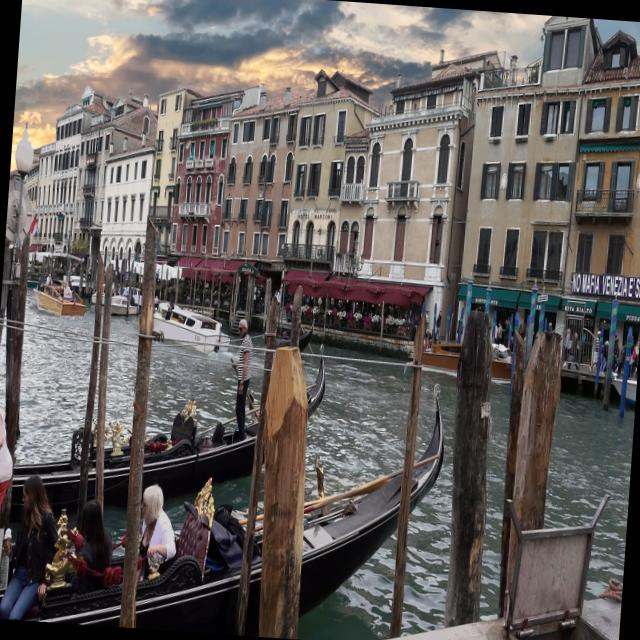boat: (0, 353, 457, 640), (0, 324, 331, 521)
